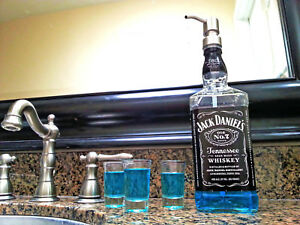Jack Daniel: (184, 32, 262, 217)
